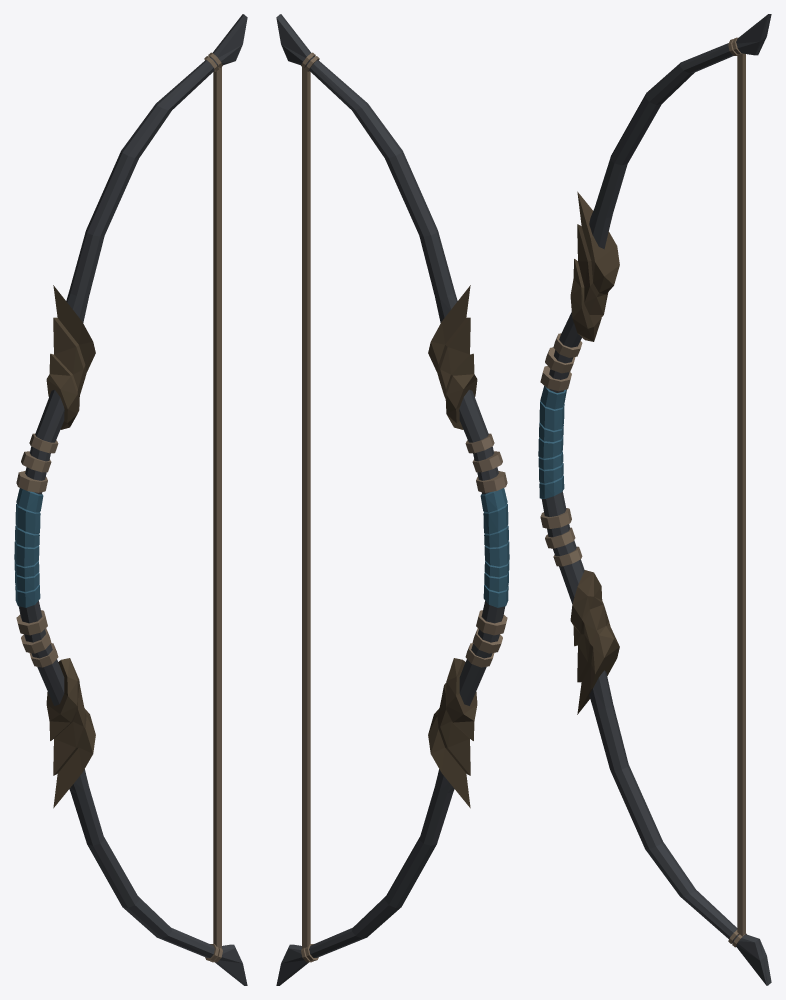
Rendered from _bow_19.glb.
3 renders of one model, left to right at view 1: azimuth 30°, elevation 25°; view 2: azimuth 150°, elevation 25°; view 3: azimuth 330°, elevation 25°, orthographic.
Parts seen in each view (by area): view 1: bow_19; view 2: bow_19; view 3: bow_19.
Part boxes in pixels (bbox=[...]): bow_19: bbox=[14, 14, 247, 985]; bow_19: bbox=[276, 14, 509, 985]; bow_19: bbox=[538, 14, 771, 985].
Bounding box in the file's own units: 9992 × 40559 × 1674.
Materials: 1 (1 with a texture image).
